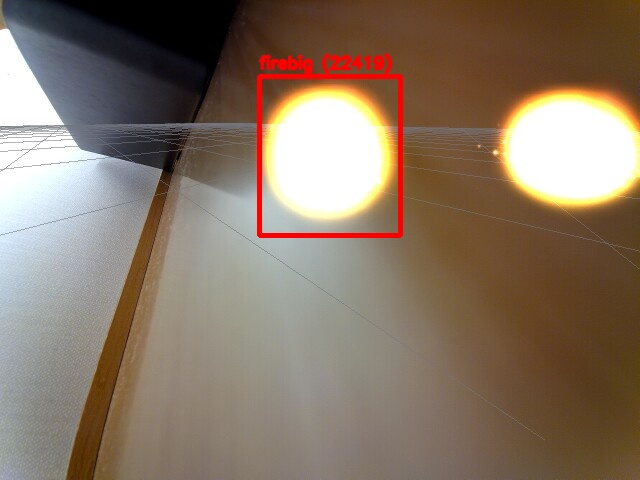firebig: (259, 76, 400, 235)
